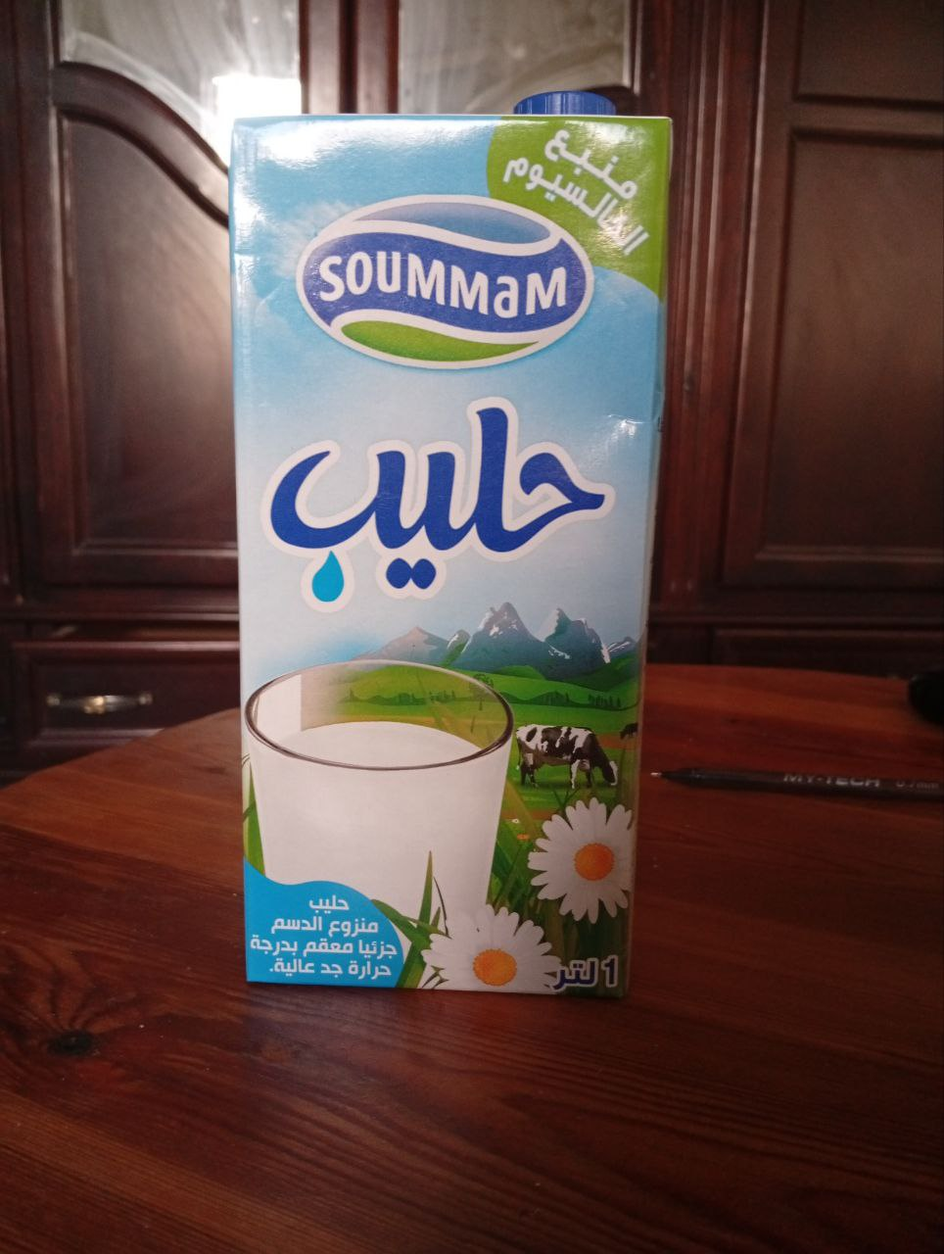soummam_milk: (210, 85, 677, 1015)
